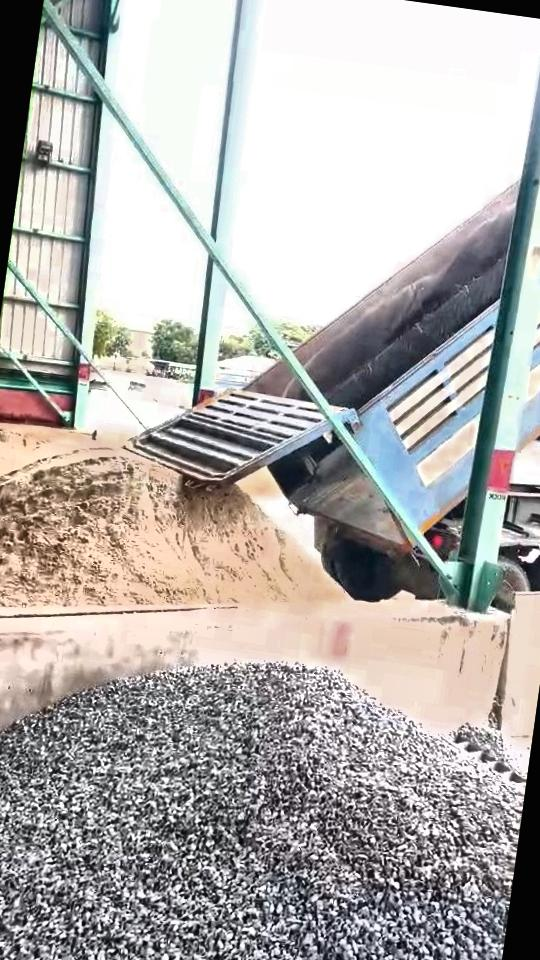gravel: (0, 663, 520, 960), (452, 723, 530, 780)
sand: (0, 447, 345, 607), (0, 423, 124, 480), (239, 469, 276, 496)
